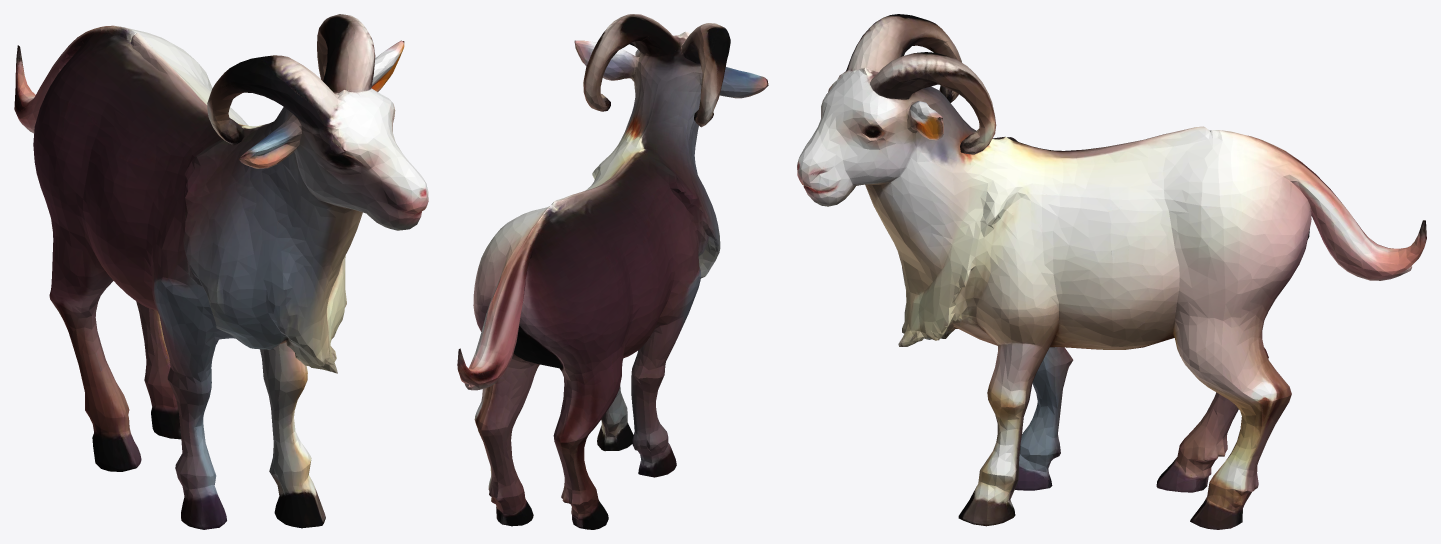
File: farm_goat.glb
3 views of the same model, side by side, from view 1: azimuth 30°, elevation 25°; view 2: azimuth 150°, elevation 25°; view 3: azimuth 270°, elevation 25° (orthographic). The views are drawn at different scales.
Visible parts, largest first — view 1: geometry_0; view 2: geometry_0; view 3: geometry_0.
Boxes of the visible parts, x1,y1,x2,y2 form: geometry_0: [14, 14, 428, 529]; geometry_0: [457, 14, 768, 529]; geometry_0: [797, 14, 1426, 529].
Bounding box in the file's own units: 0.3322 × 0.8 × 0.9611.
1 material, 1 textured.
